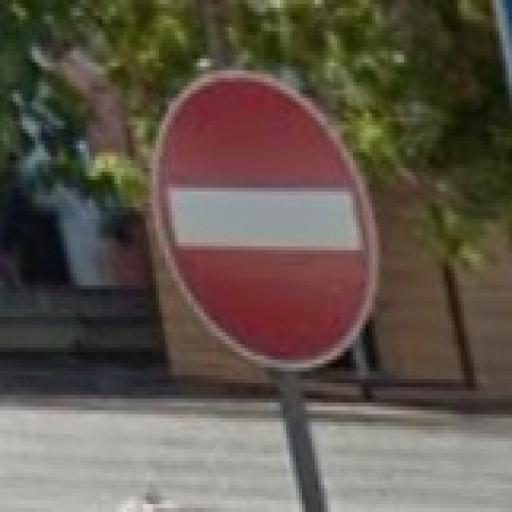traffic_sign: (154, 72, 383, 373)
